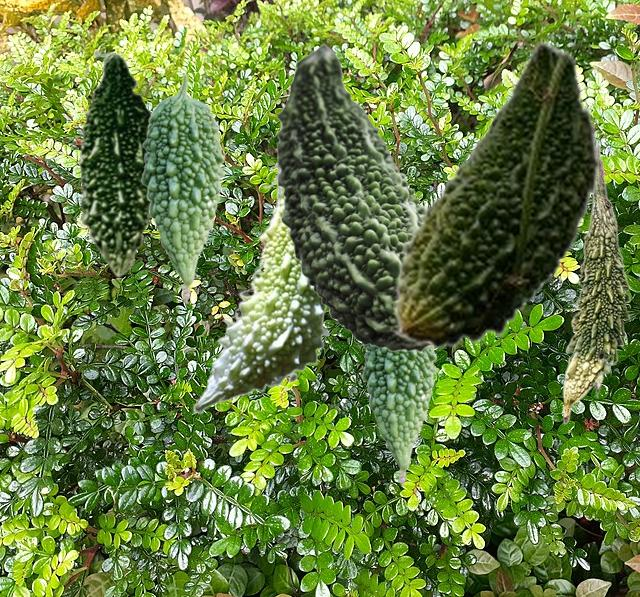ampalaya: (393, 41, 601, 349), (276, 43, 429, 351), (192, 123, 330, 413), (140, 73, 224, 303), (562, 146, 630, 424), (78, 48, 152, 278), (361, 346, 436, 486)
